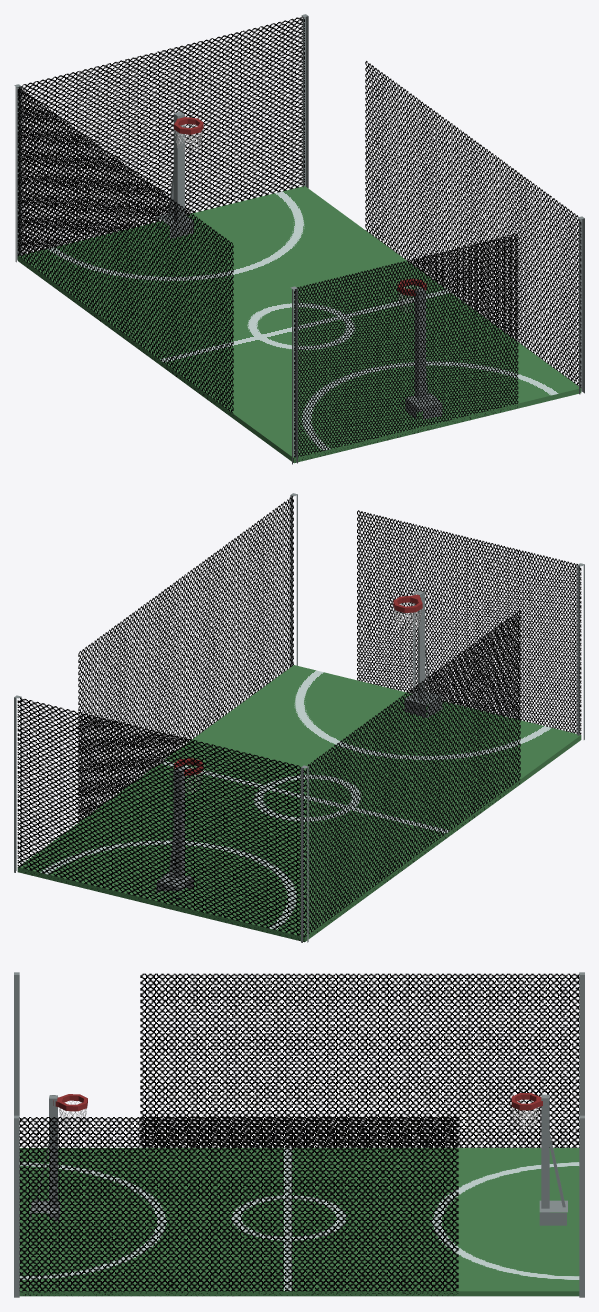
The model's file is lapanganBasket(single).gltf.
3 views of the same model, one above another, from view 1: azimuth 30°, elevation 25°; view 2: azimuth 150°, elevation 25°; view 3: azimuth 270°, elevation 25° (orthographic). The views are drawn at different scales.
Parts seen in each view (by area): view 1: LapanganBasket; view 2: LapanganBasket; view 3: LapanganBasket.
Boxes of the visible parts, left/top/right/bottom form: LapanganBasket: left=14, top=14, right=584, bottom=464; LapanganBasket: left=14, top=493, right=584, bottom=942; LapanganBasket: left=14, top=972, right=584, bottom=1297.
Bounding box in the file's own units: 0.7625 × 0.4375 × 1.26.
Materials: 5 (5 with a texture image).
